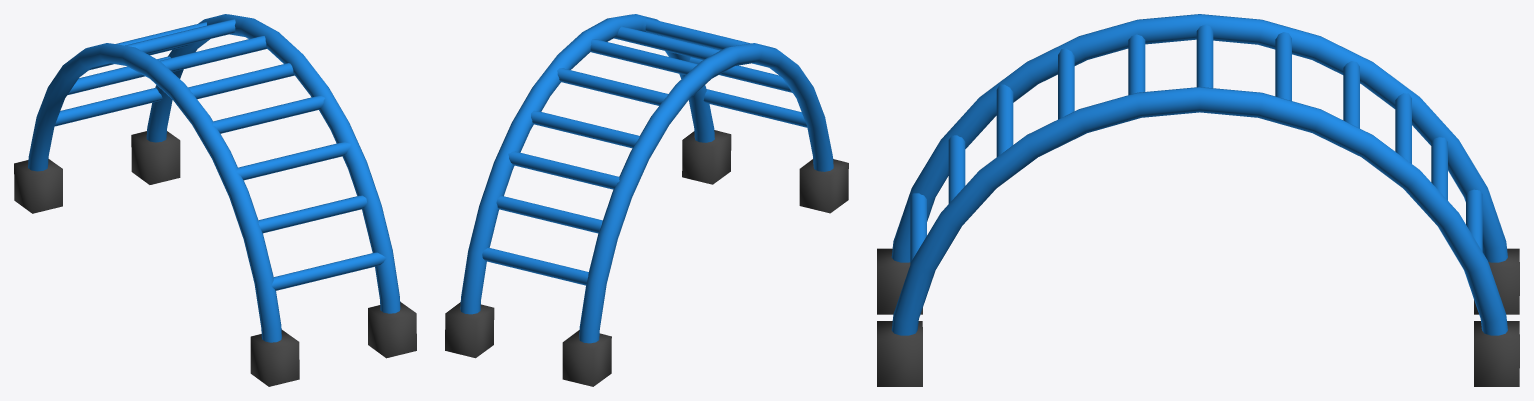
Rendered from Arc ladder.fbx.
The picture shows the model from 3 angles, left to right: view 1: azimuth 30°, elevation 25°; view 2: azimuth 150°, elevation 25°; view 3: azimuth 270°, elevation 25°; orthographic projection. The views are drawn at different scales.
Parts seen in each view (by area): view 1: Arc ladder; view 2: Arc ladder; view 3: Arc ladder.
Part boxes in pixels (x1,y1,x2,y2): Arc ladder: (14, 14, 416, 386); Arc ladder: (445, 14, 848, 386); Arc ladder: (877, 14, 1519, 386).
Size of the model in its own units: 148 by 219 by 442.
